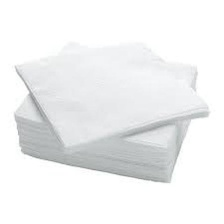tissue: (6, 32, 216, 188)
